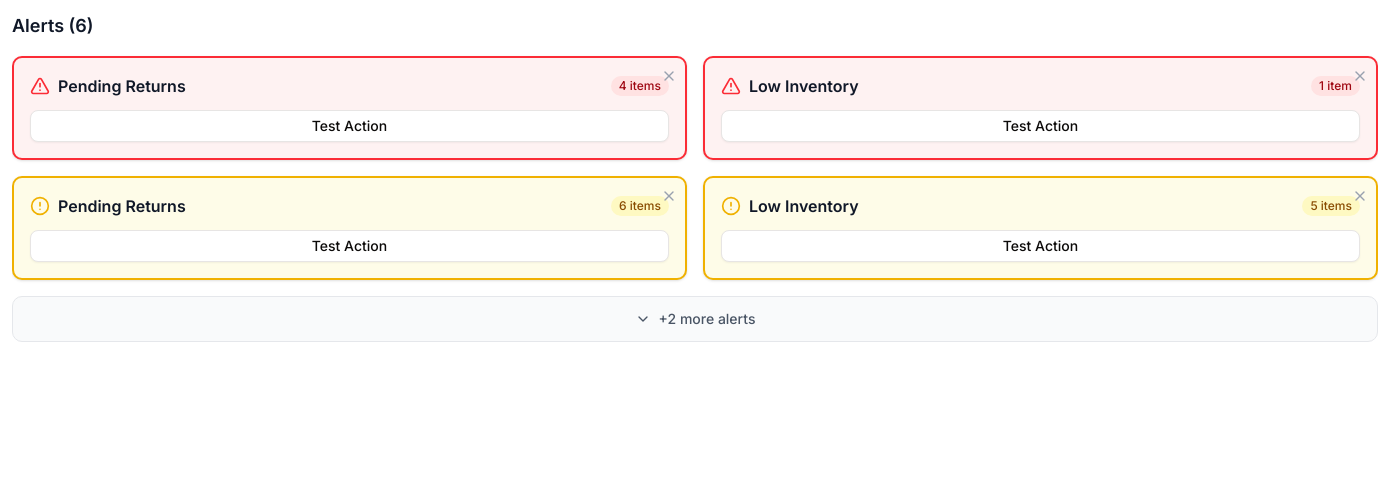
AlertsSection › should show all alerts when "+N more" button is clicked
Click the button with test id "show-more-alerts": coordinates (695, 319) [12, 296, 1378, 342]
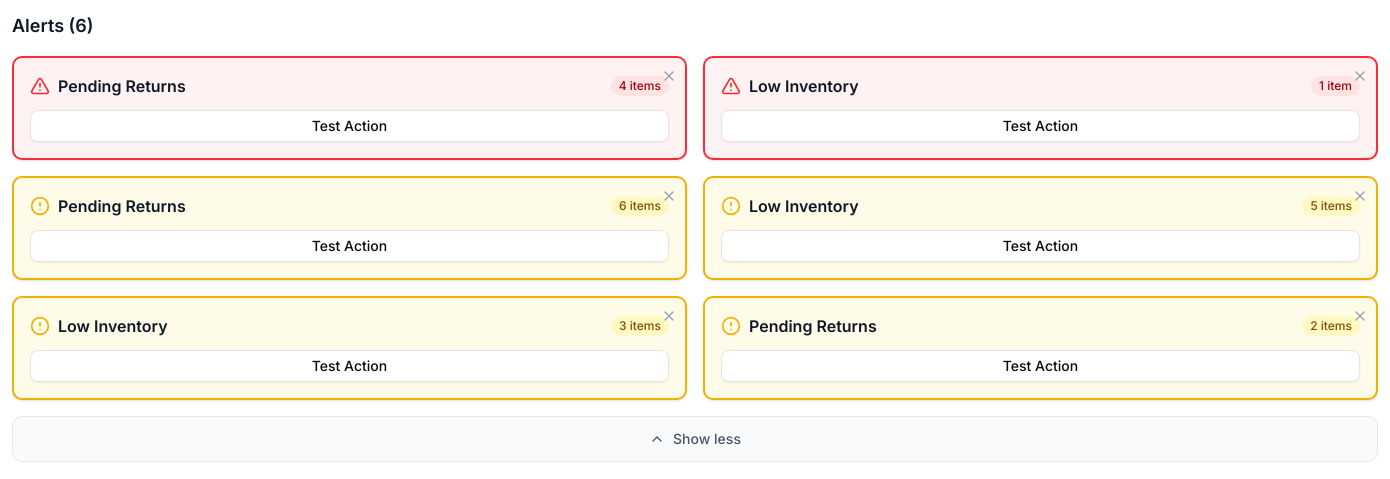
Expected: the heading "Alerts (6)" is shown, [12, 12, 94, 40]
Now the button "Show less" is shown, box [12, 416, 1378, 462]
